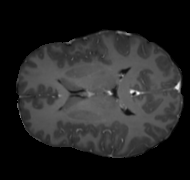Edema: (78, 111, 120, 148)
Necrosis: (81, 114, 114, 147)
